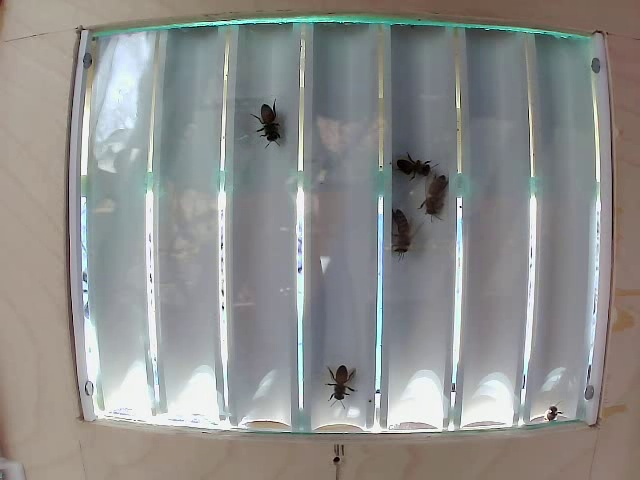bee: (252, 89, 290, 156), (384, 208, 421, 253), (415, 172, 451, 218), (391, 141, 425, 184)
